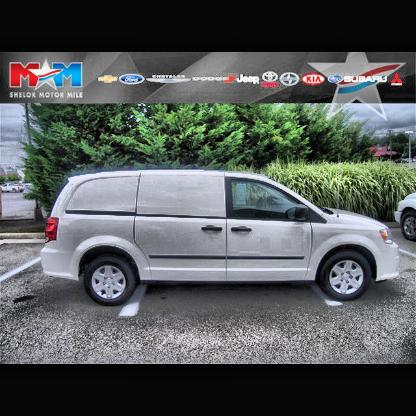Ram C-V Cargo Van Minivan 2012: (43, 171, 401, 301)
